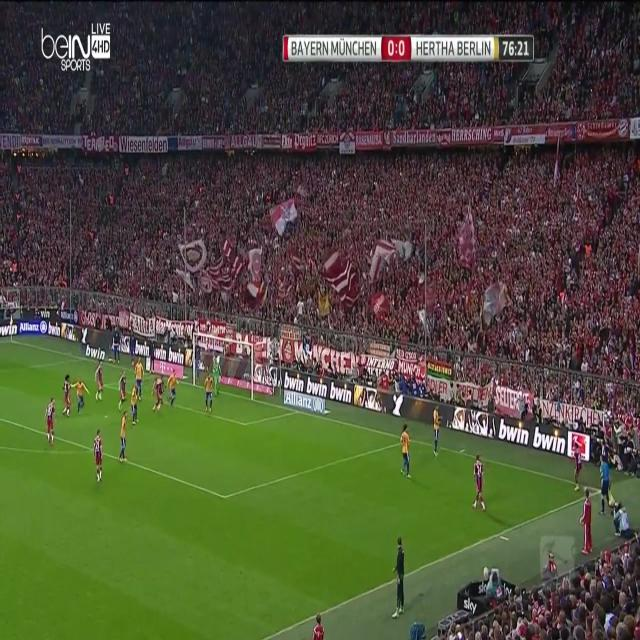Goalkeeper: (213, 358, 225, 402)
Player: (471, 452, 490, 514), (397, 423, 415, 484), (91, 425, 107, 491), (41, 394, 59, 449), (150, 372, 168, 418), (571, 439, 585, 495), (119, 405, 132, 465), (74, 378, 93, 417), (60, 368, 74, 420), (431, 406, 444, 460), (133, 353, 147, 403), (92, 356, 106, 406), (166, 365, 179, 411), (129, 381, 141, 427), (116, 368, 128, 414), (203, 372, 214, 414)
Referee: (599, 453, 614, 518)
